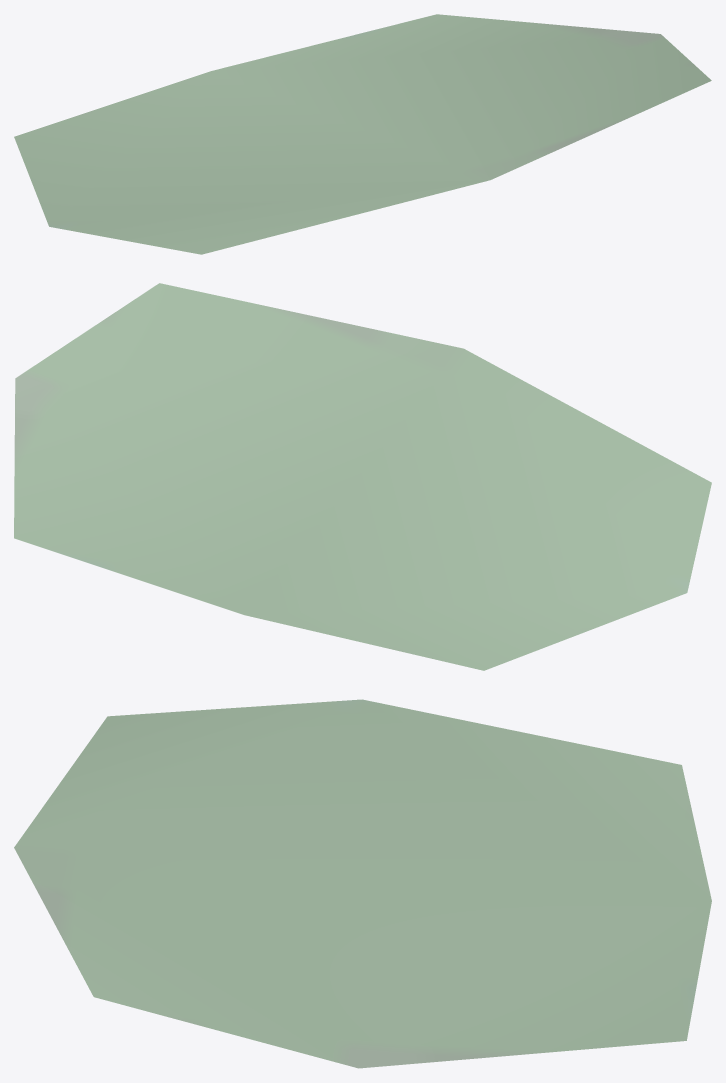
Rendered from TROLLHOLE02_HOLECAP60.fbx.
3 renders of one model, top to bottom at view 1: azimuth 30°, elevation 25°; view 2: azimuth 150°, elevation 25°; view 3: azimuth 270°, elevation 25°, orthographic. The views are drawn at different scales.
Parts seen in each view (by area): view 1: TROLLHOLE02_HOLECAP60; view 2: TROLLHOLE02_HOLECAP60; view 3: TROLLHOLE02_HOLECAP60.
Boxes of the visible parts, bbox=[...] form: TROLLHOLE02_HOLECAP60: bbox=[14, 14, 711, 254]; TROLLHOLE02_HOLECAP60: bbox=[14, 283, 711, 670]; TROLLHOLE02_HOLECAP60: bbox=[14, 699, 711, 1068].
Size of the model in its own units: 23971 by 3107 by 16287.
Materials: 1 (1 with a texture image).
